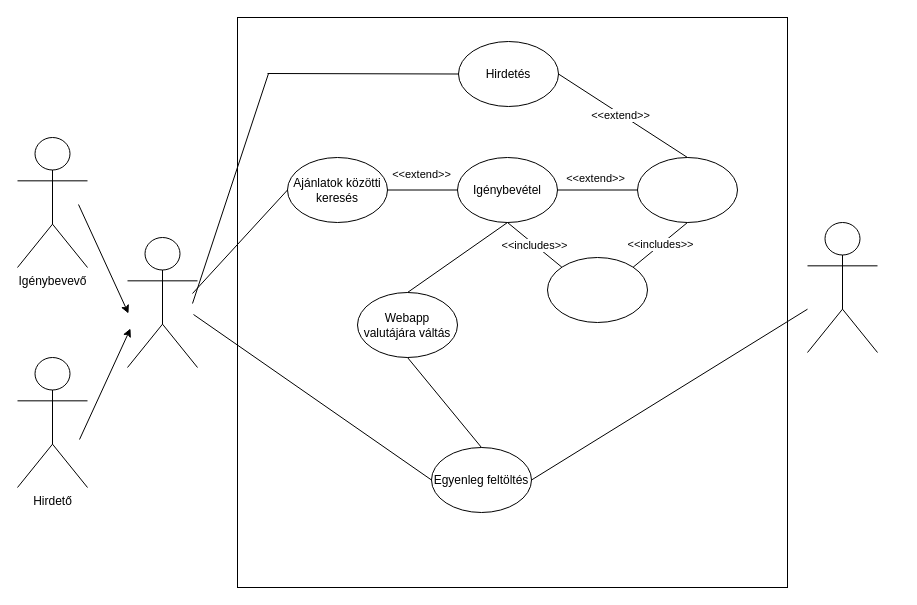
The diagram is 917 pixels wide and 605 high, and some of its shapes have lost their labels. The box of each missing label's shape, as (x1, y1, x2, y2) in pixels:
Chat felület: (636, 156, 738, 222)
Felhasználó: (126, 236, 198, 368)
Fizetési szolgálatatók: (806, 222, 878, 352)
Értesítés: (546, 256, 648, 322)
